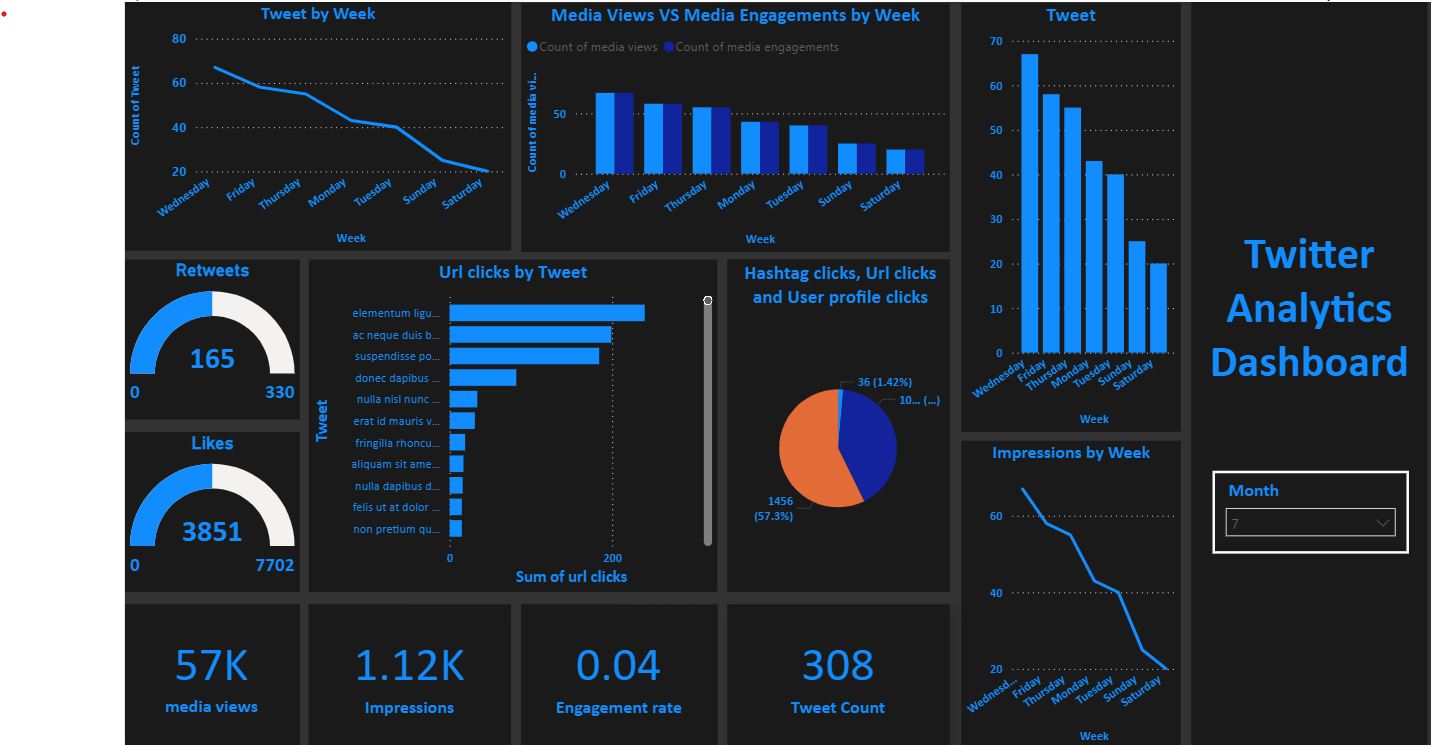

Layout of this report page (visuals, bound fields, positions):
{"tool":"powerbi","page":{"name":"Page 2","canvas":[1280,720],"ordinal":1},"visuals":[{"type":"textbox","box":[1029.1,0,228,720.2],"z":0},{"type":"cardVisual","fields":{"Data":["Sum(SocialMedia (1).media views)"]},"box":[0,581.5,168.9,138.7],"z":1000},{"type":"cardVisual","fields":{"Data":["Avg(SocialMedia (1).impressions)"]},"box":[177.3,581.5,195.4,138.7],"z":2000},{"type":"cardVisual","fields":{"Data":["Avg(SocialMedia (1).engagement rate)"]},"box":[382.4,581.5,189.4,138.7],"z":3000},{"type":"cardVisual","fields":{"Data":["CountNonNull(SocialMedia (1).Tweet)"]},"box":[581.5,581.5,214.7,138.7],"z":4000},{"type":"gauge","title":"Likes","fields":{"Y":["Sum(SocialMedia (1).likes)"]},"box":[0,415,168.9,154.4],"z":5000},{"type":"gauge","title":"Retweets","fields":{"Y":["Max(SocialMedia (1).retweets)"]},"box":[0,248.5,168.9,154.4],"z":6000},{"type":"slicer","fields":{"Values":["SocialMedia (1).Month"]},"box":[1049.6,452.4,189.4,79.6],"z":7000},{"type":"lineChart","title":"Tweet by Week","fields":{"Y":["CountNonNull(SocialMedia (1).Tweet)"],"Category":["SocialMedia (1).DayWeek"]},"box":[0,0,372.8,240.1],"z":8000},{"type":"lineChart","title":"Impressions by Week","fields":{"Y":["CountNonNull(SocialMedia (1).Tweet)"],"Category":["SocialMedia (1).DayWeek"]},"box":[807.1,423.5,212.3,296.8],"z":9000},{"type":"clusteredBarChart","title":"Url clicks by Tweet","fields":{"Y":["Sum(SocialMedia (1).url clicks)"],"Category":["SocialMedia (1).Tweet"]},"box":[177.3,248.5,394.5,320.9],"z":10000},{"type":"pieChart","title":"Hashtag clicks, Url clicks and User profile clicks","fields":{"Y":["Sum(SocialMedia (1).hashtag clicks)","Sum(SocialMedia (1).url clicks)","Sum(SocialMedia (1).user profile clicks)"]},"box":[581.5,248.5,214.7,320.9],"z":11000},{"type":"clusteredColumnChart","title":"Media Views VS Media Engagements by Week","fields":{"Category":["SocialMedia (1).DayWeek"],"Y":["CountNonNull(SocialMedia (1).media views)","CountNonNull(SocialMedia (1).media engagements)"]},"box":[382.4,1.2,413.8,240.1],"z":12000},{"type":"clusteredColumnChart","title":"Tweet","fields":{"Category":["SocialMedia (1).DayWeek"],"Y":["CountNonNull(SocialMedia (1).Tweet)"]},"box":[807.1,1.2,212.3,413.8],"z":13000}]}

Visuals, with their boxes on the page's 1280x720 design canvas (x1, y1, x2, y2). These are canvas units, not pixel positions in the 1431x745 screenshot, which may show the page scaled, cropped or inside an application window:
textbox: x1=1029 y1=0 x2=1257 y2=720
cardVisual - Sum(SocialMedia (1).media views): x1=0 y1=582 x2=169 y2=720
cardVisual - Avg(SocialMedia (1).impressions): x1=177 y1=582 x2=373 y2=720
cardVisual - Avg(SocialMedia (1).engagement rate): x1=382 y1=582 x2=572 y2=720
cardVisual - CountNonNull(SocialMedia (1).Tweet): x1=582 y1=582 x2=796 y2=720
"Likes" gauge: x1=0 y1=415 x2=169 y2=569
"Retweets" gauge: x1=0 y1=248 x2=169 y2=403
slicer - SocialMedia (1).Month: x1=1050 y1=452 x2=1239 y2=532
"Tweet by Week" lineChart: x1=0 y1=0 x2=373 y2=240
"Impressions by Week" lineChart: x1=807 y1=424 x2=1019 y2=720
"Url clicks by Tweet" clusteredBarChart: x1=177 y1=248 x2=572 y2=569
"Hashtag clicks, Url clicks and User profile clicks" pieChart: x1=582 y1=248 x2=796 y2=569
"Media Views VS Media Engagements by Week" clusteredColumnChart: x1=382 y1=1 x2=796 y2=241
"Tweet" clusteredColumnChart: x1=807 y1=1 x2=1019 y2=415
